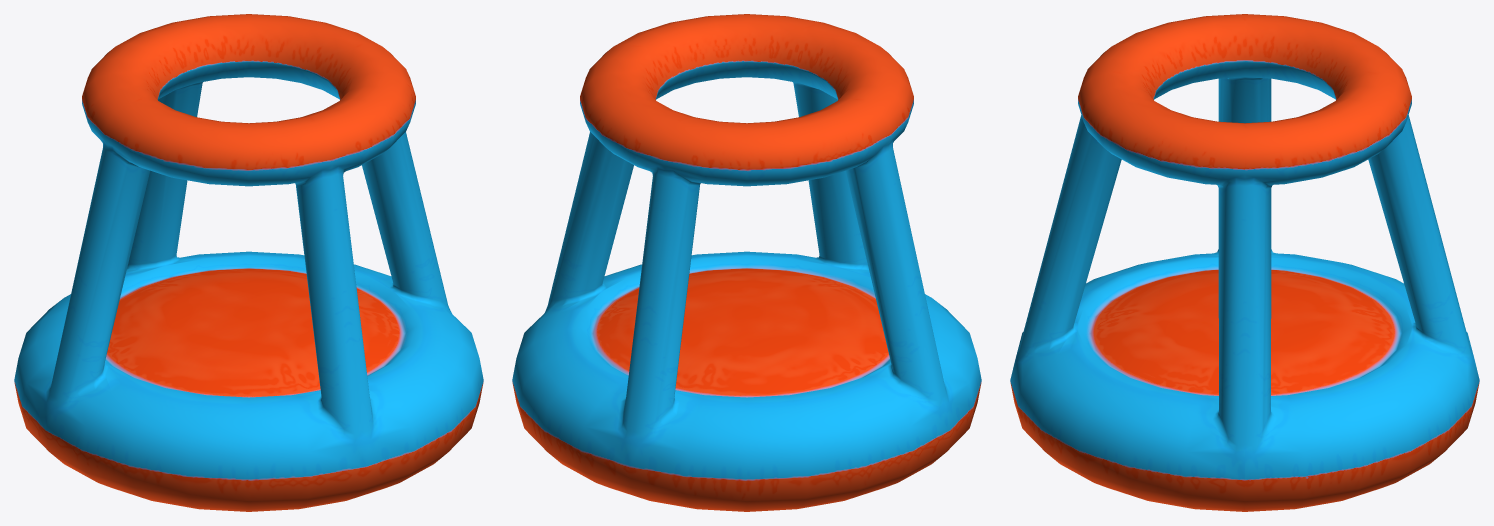
Rendered from PoolHoop01.FBX.
The picture shows the model from 3 angles, left to right: view 1: azimuth 30°, elevation 25°; view 2: azimuth 150°, elevation 25°; view 3: azimuth 270°, elevation 25°; orthographic projection.
Parts seen in each view (by area): view 1: PoolHoop01; view 2: PoolHoop01; view 3: PoolHoop01.
Boxes of the visible parts, <box> form: PoolHoop01: <box>14,14,483,511</box>; PoolHoop01: <box>512,14,981,511</box>; PoolHoop01: <box>1010,14,1479,511</box>.
Size of what is drawn, in the model's own units: 0.5966 by 0.5061 by 0.5966.
